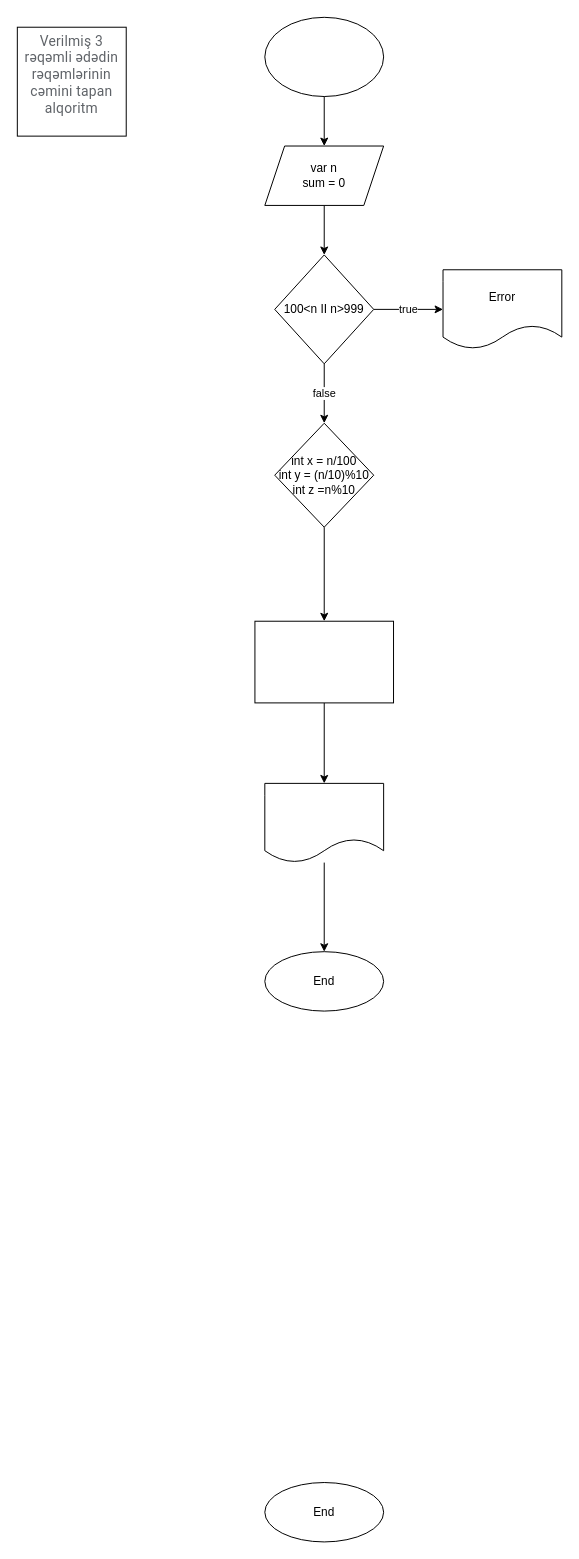
This 579x1559 diagram has some shape labels left out. The box of each missing label's shape, as (x1, y1, x2, y2) in pixels:
Start: (264, 16, 384, 97)
sum: (264, 782, 384, 863)
sum = int x+ int y + int z: (254, 620, 394, 703)
